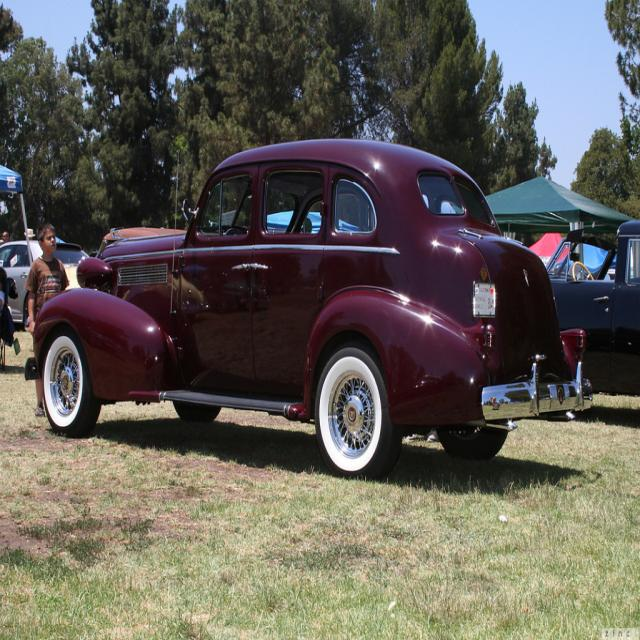car: (24, 141, 597, 481)
